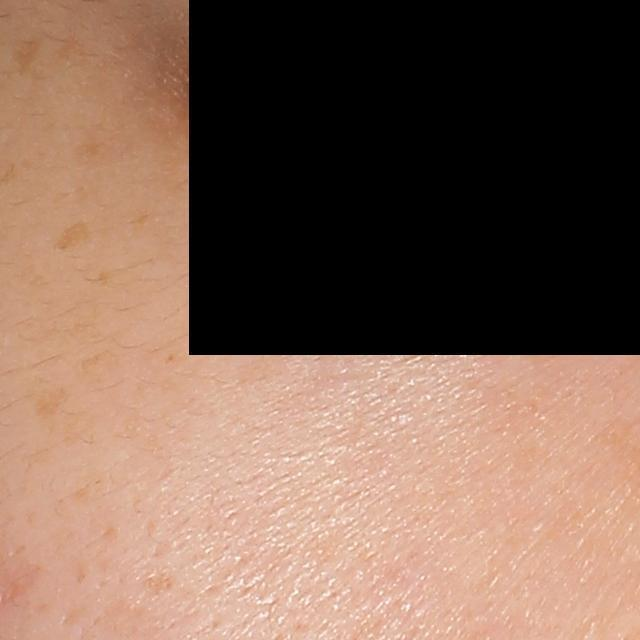melasma: (50, 217, 101, 254), (9, 35, 43, 78)
